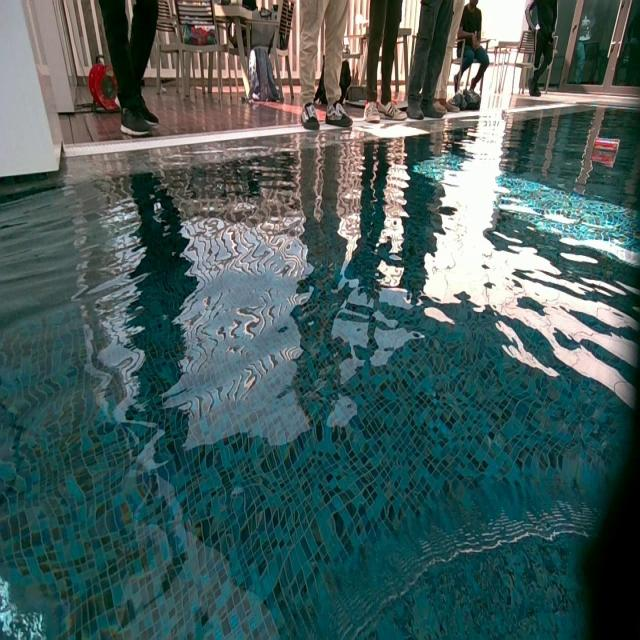Cans: (593, 136, 619, 158)
